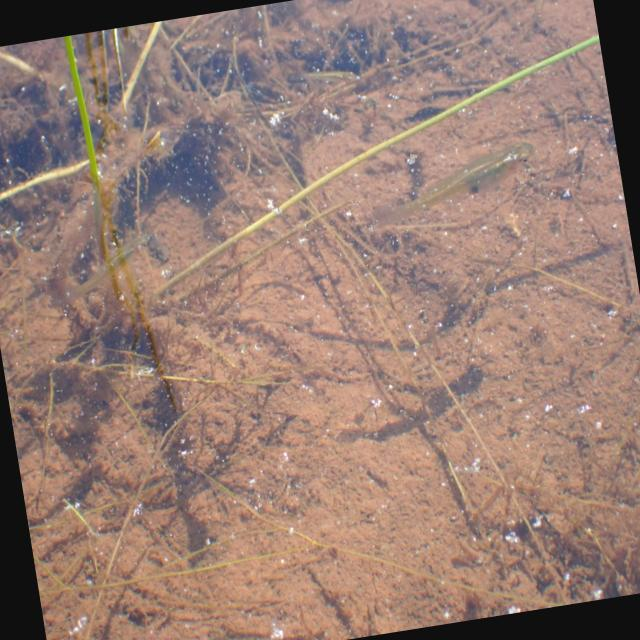Sivrisinek Baligi: (398, 142, 538, 214), (56, 227, 160, 307)
